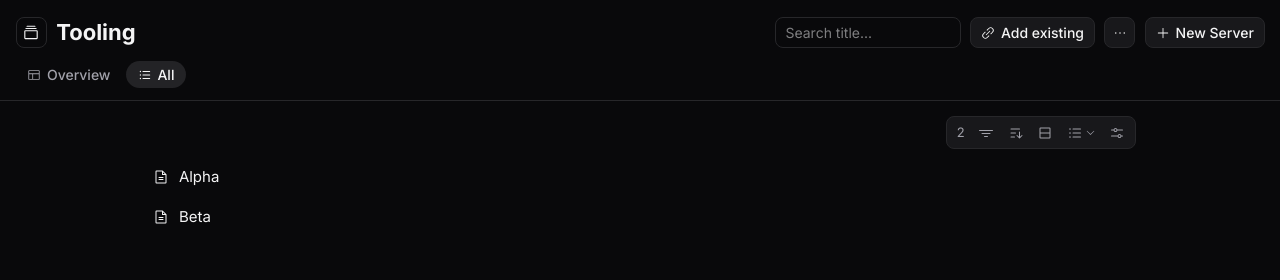
it: CollectionPage › test rename saves with baseRevision and shows skipped count
Replace the text in the field named "Collection name" with "Gear" at (411, 33), box x1=56 y1=16 x2=765 y2=49
Then press Enter
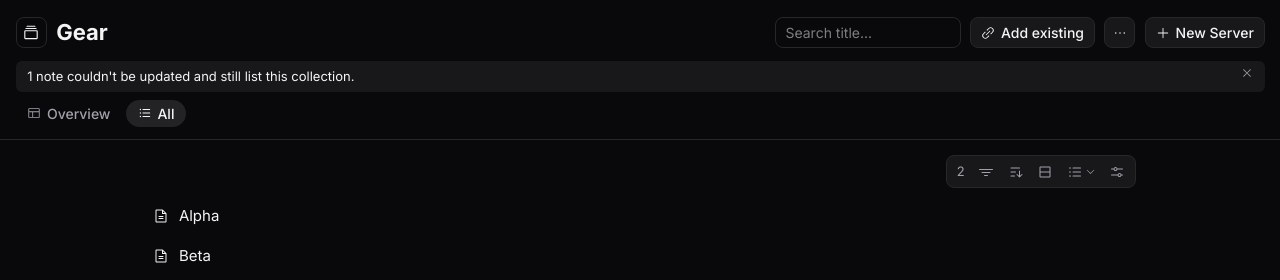
Result: the message with test id "collection-notice" reads "1 note couldn't be updated and still list this collection." at x1=27 y1=68 x2=354 y2=84
